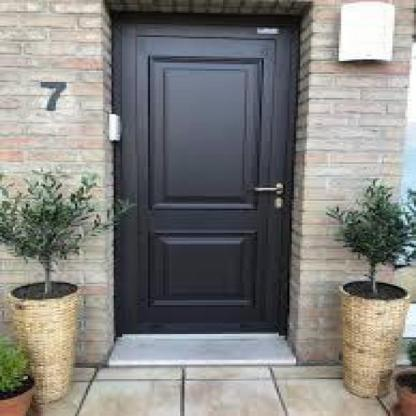door: (93, 1, 304, 347)
